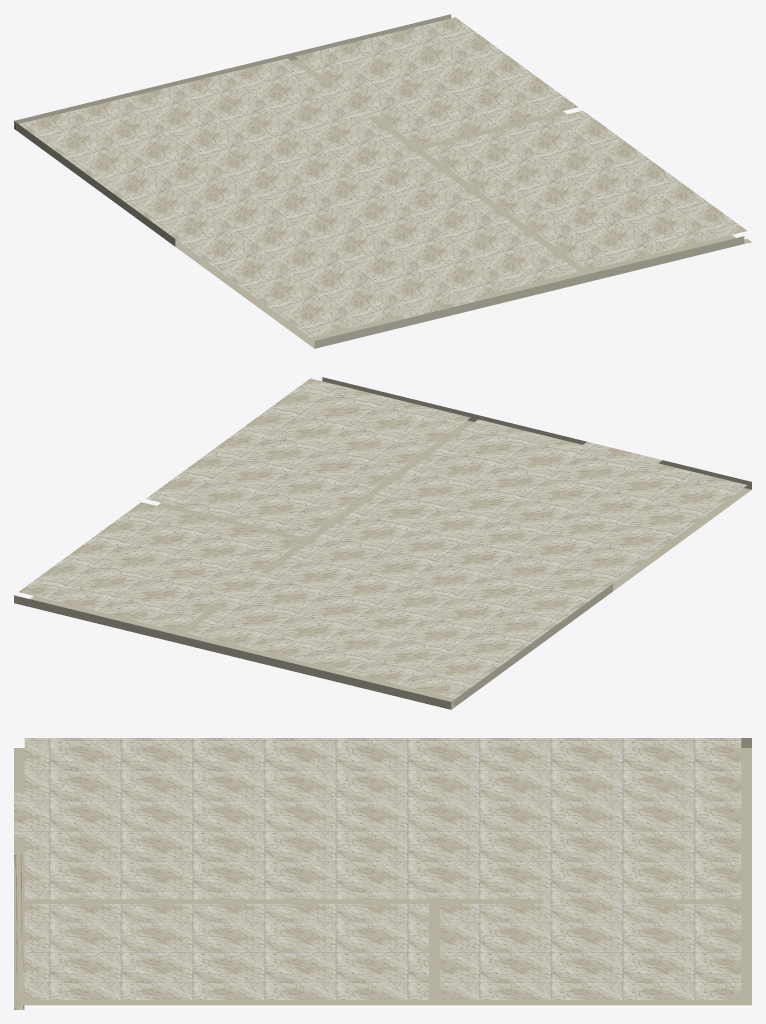
Rendered from FrontLeft2ndFloor.obj.
3 renders of one model, top to bottom at view 1: azimuth 30°, elevation 25°; view 2: azimuth 150°, elevation 25°; view 3: azimuth 270°, elevation 25°, orthographic. The views are drawn at different scales.
Parts seen in each view (by area): view 1: Box011; view 2: Box011; view 3: Box011.
Part boxes in pixels (<box>): Box011: <box>14,14,751,348</box>; Box011: <box>14,377,751,709</box>; Box011: <box>14,738,751,1009</box>.
Bounding box in the file's own units: 681 × 11.81 × 811.
